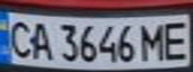3: (54, 20, 81, 63)
4: (96, 21, 121, 63)
6: (75, 21, 100, 64), (115, 21, 139, 63)
A: (24, 18, 57, 61)
C: (3, 16, 36, 60)
E: (157, 17, 193, 62)
M: (136, 20, 172, 62)
